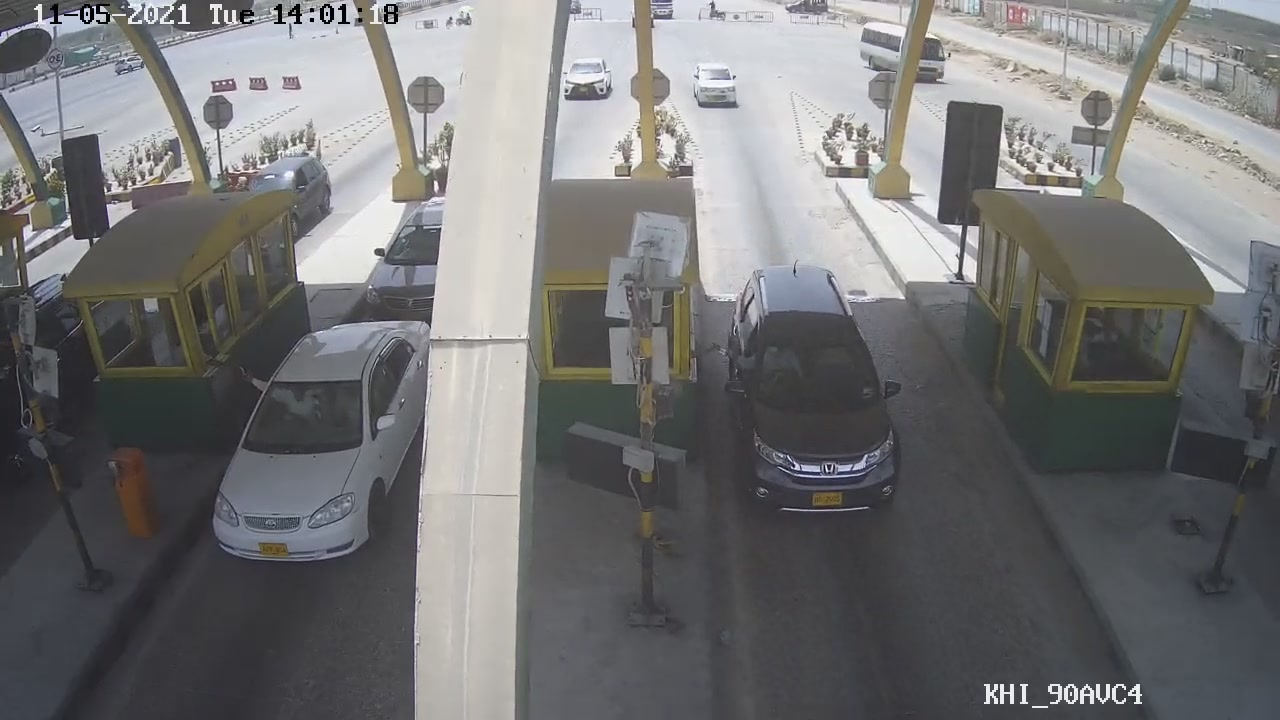F1: (718, 259, 903, 528)
